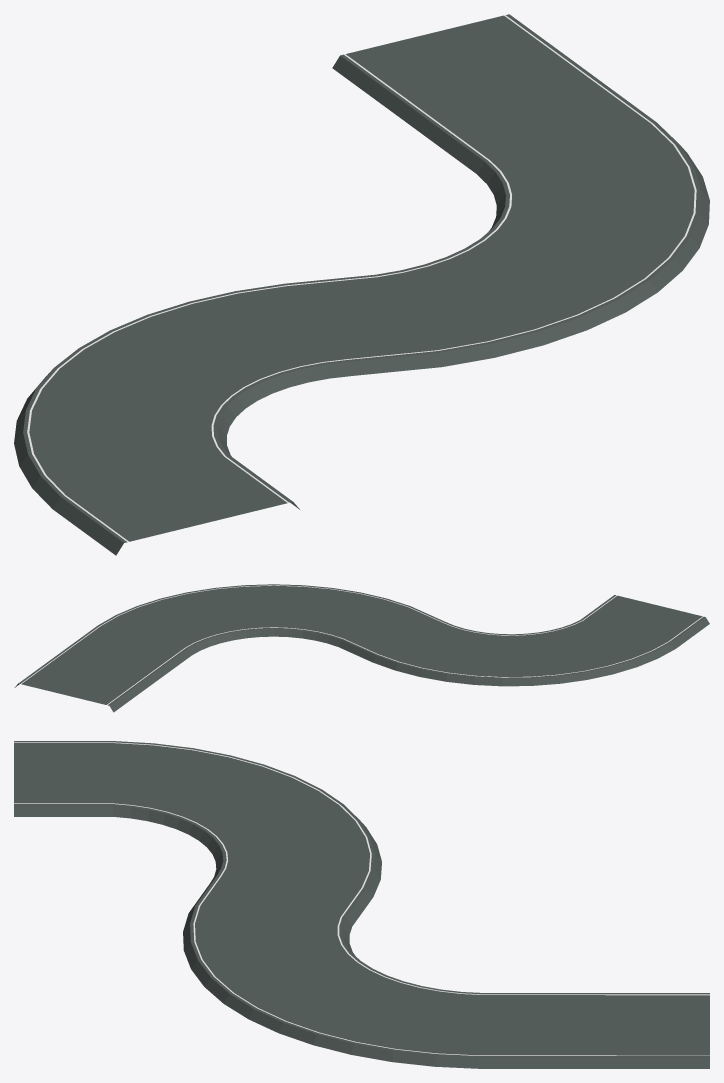
The model's file is Chicane.fbx.
The picture shows the model from 3 angles, top to bottom: view 1: azimuth 30°, elevation 25°; view 2: azimuth 150°, elevation 25°; view 3: azimuth 270°, elevation 25°; orthographic projection. The views are drawn at different scales.
Visible parts, largest first — view 1: Plane.003; view 2: Plane.003; view 3: Plane.003.
Part boxes in pixels (x1,y1,x2,y2): Plane.003: (14, 14, 709, 555); Plane.003: (14, 584, 709, 712); Plane.003: (14, 741, 709, 1068).
Bounding box in the file's own units: 115 × 1.4 × 105.
